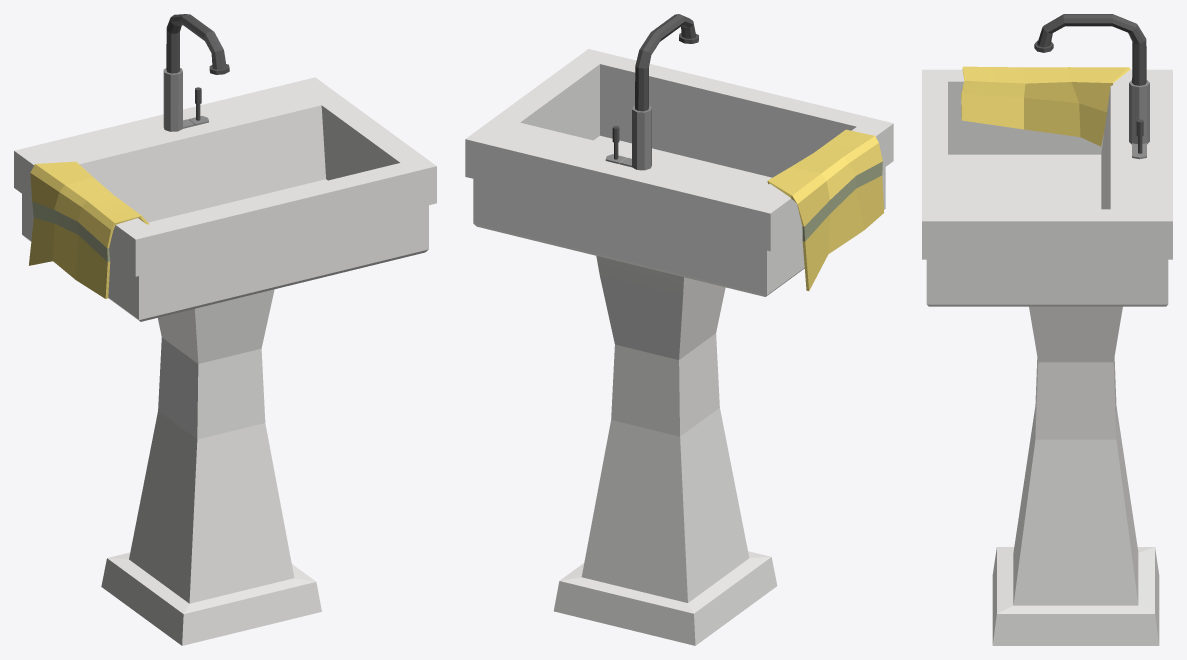
File: Washbasin_231109.glb
3 views of the same model, side by side, from view 1: azimuth 30°, elevation 25°; view 2: azimuth 150°, elevation 25°; view 3: azimuth 270°, elevation 25° (orthographic). The views are drawn at different scales.
Visible parts, largest first — view 1: Washbasin; view 2: Washbasin; view 3: Washbasin.
Part boxes in pixels (x1,y1,x2,y2): Washbasin: (14, 14, 436, 645); Washbasin: (465, 14, 893, 645); Washbasin: (922, 14, 1172, 645).
Size of the model in its own units: 1.14 by 1.97 by 0.756.
1 material, 1 textured.
